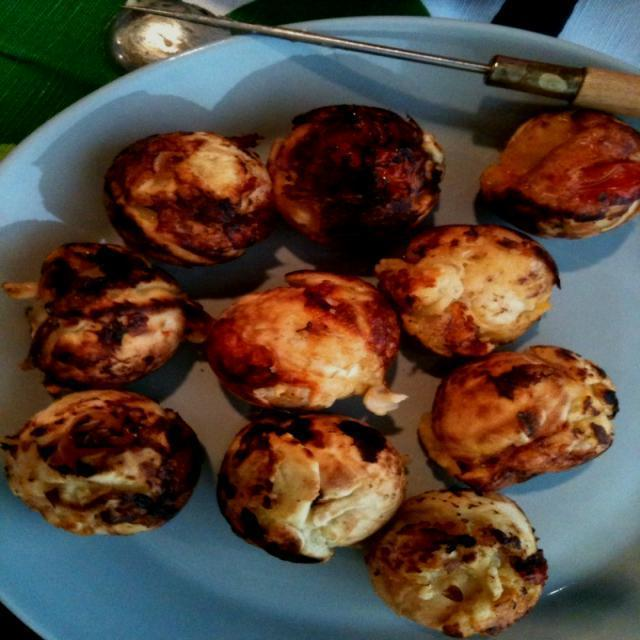takoyaki: (0, 8, 631, 631)
